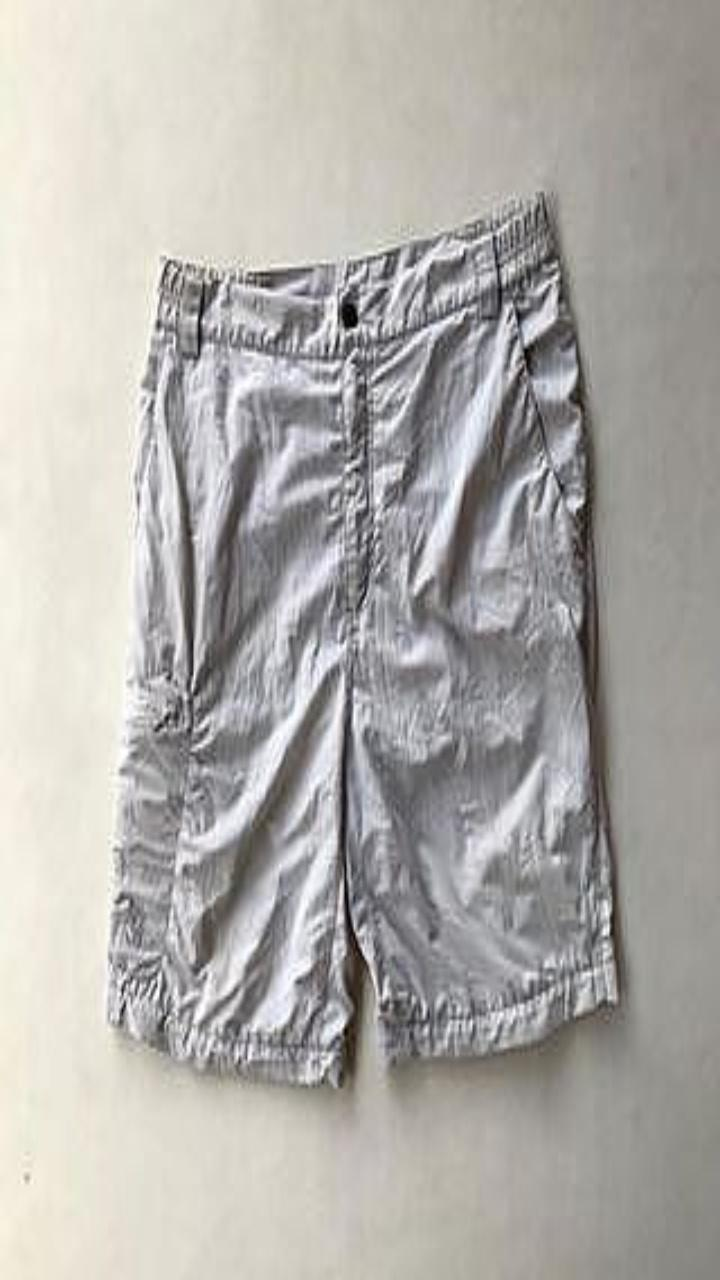Shorts: (107, 191, 617, 1085)
